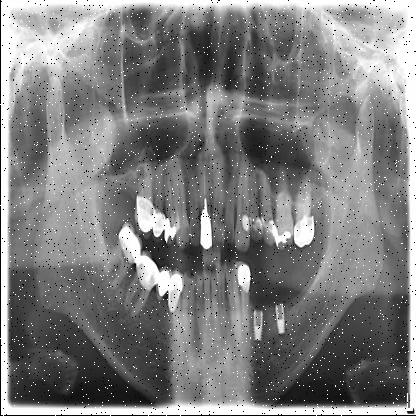Bicon: (272, 296, 288, 342), (248, 307, 264, 343)
